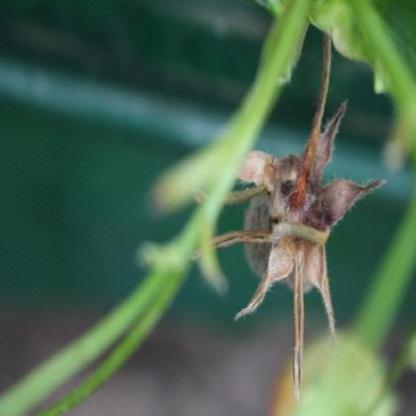Strawberry_Gray_Mold: (210, 33, 390, 399)
